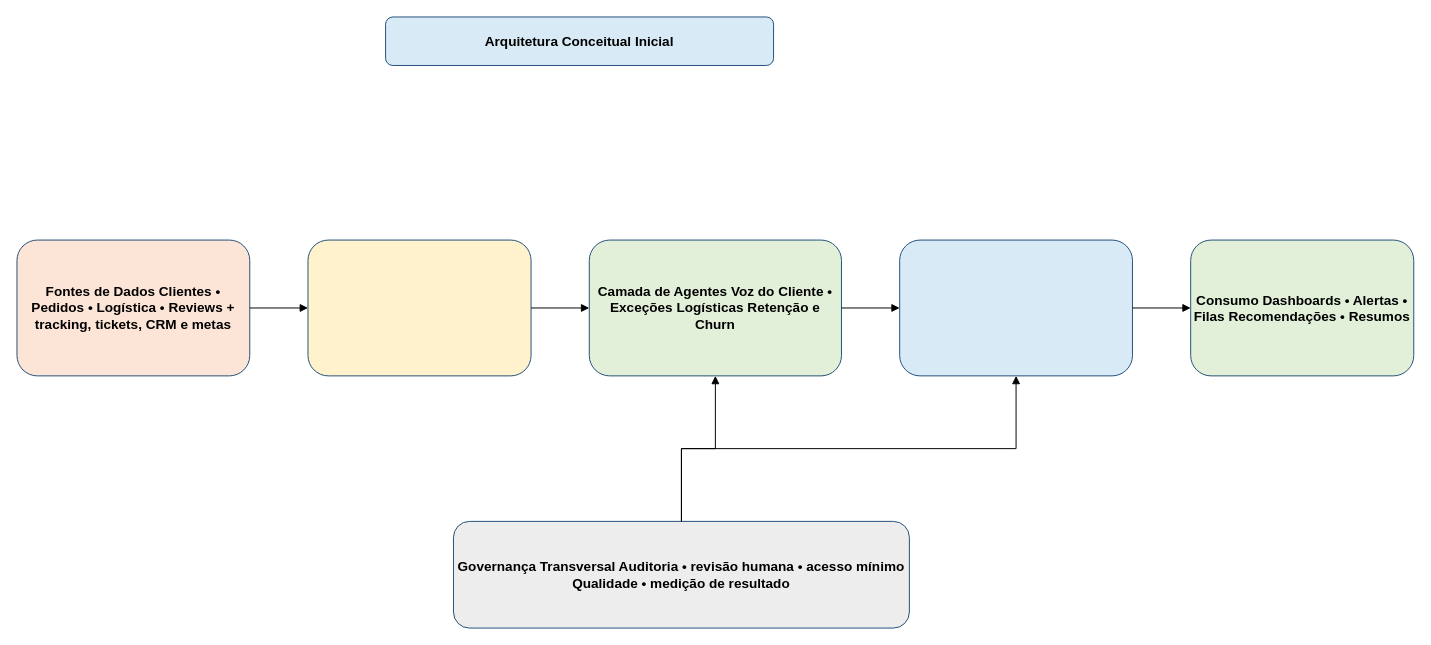
Some shapes in this 1431 by 645 pixel diagram are drawn without their labels. Here are the shapes that lost their labels. From the top down, the centre of each, then its label:
At point 419,307: "Tratamento e Qualidade Padronização • deduplicação Consolidação • completude".
At point 1015,307: "Copiloto Executivo Síntese de prioridades, impactos e riscos".
